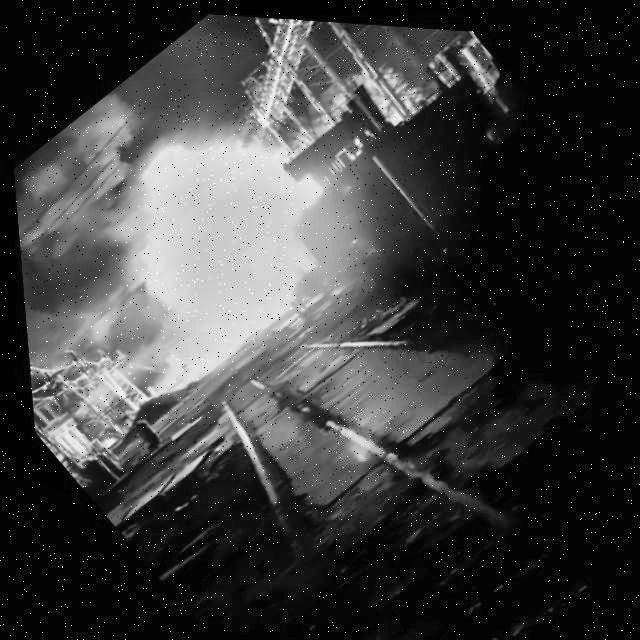Fire: (16, 68, 383, 417)
Smoke: (5, 75, 261, 433)
